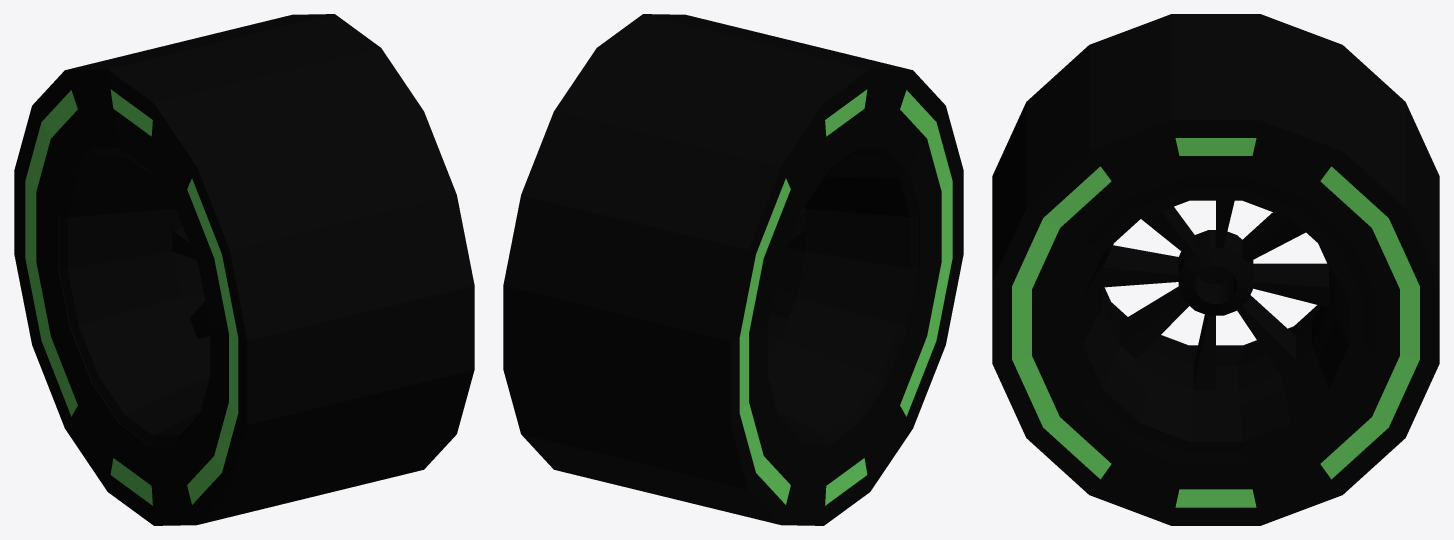
Rendered from rear-tyre.glb.
3 views of the same model, side by side, from view 1: azimuth 30°, elevation 25°; view 2: azimuth 150°, elevation 25°; view 3: azimuth 270°, elevation 25° (orthographic). The views are drawn at different scales.
Parts seen in each view (by area): view 1: Tyre; view 2: Tyre; view 3: Tyre.
Boxes of the visible parts, box(x1,y1,x2,y2) form: Tyre: box(14, 14, 474, 525); Tyre: box(503, 14, 963, 525); Tyre: box(992, 14, 1439, 525).
Size of the model in its own units: 0.405 by 0.72 by 0.72.
